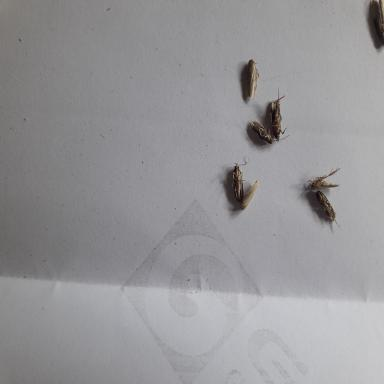pbw: (226, 156, 250, 202), (271, 87, 290, 142), (315, 190, 340, 228), (307, 166, 340, 188), (249, 119, 275, 145), (370, 0, 384, 46), (246, 59, 260, 100), (240, 180, 259, 210)
